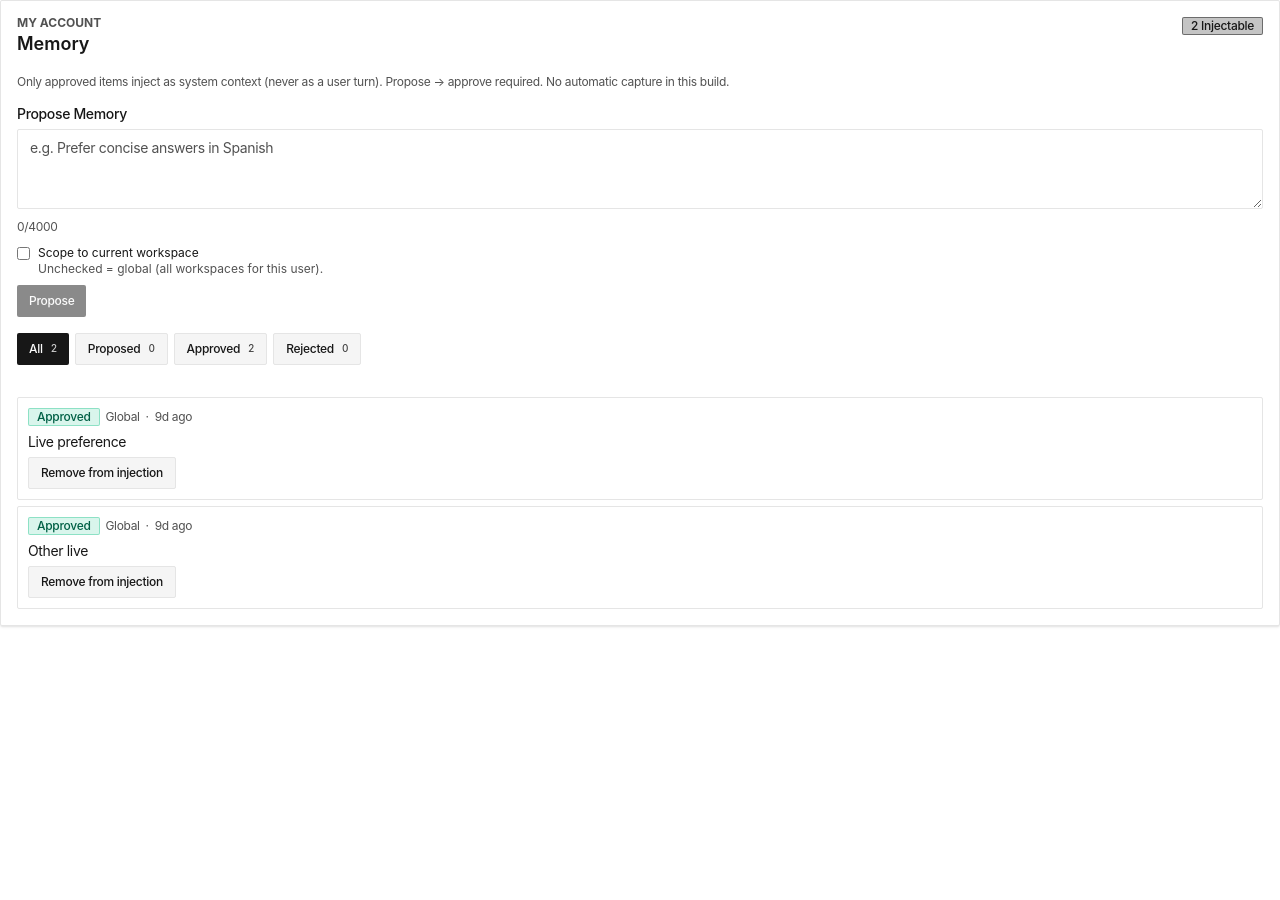
Scenario: UserMemoryPanel › Esc and Dismiss clear the soft-remove Undo banner
The image size is (1280, 900).
Expected: the text "Live preference" is shown, left=28, top=432, right=126, bottom=450
Click the button "Remove from injection" below "Live preference".
click(102, 473)  # box left=28, top=457, right=176, bottom=489
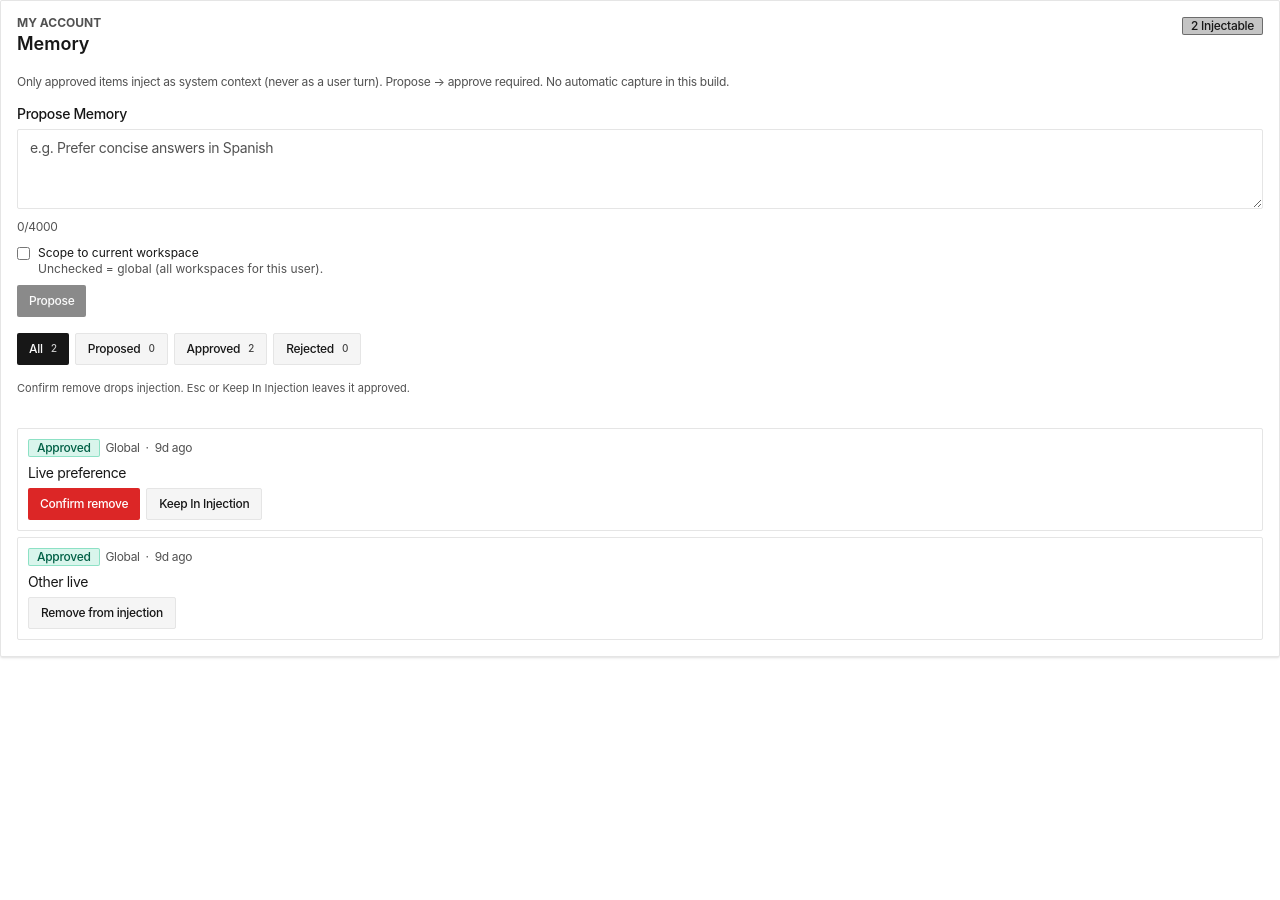
Click the button "Confirm remove".
click(84, 504)  # box left=28, top=488, right=140, bottom=520
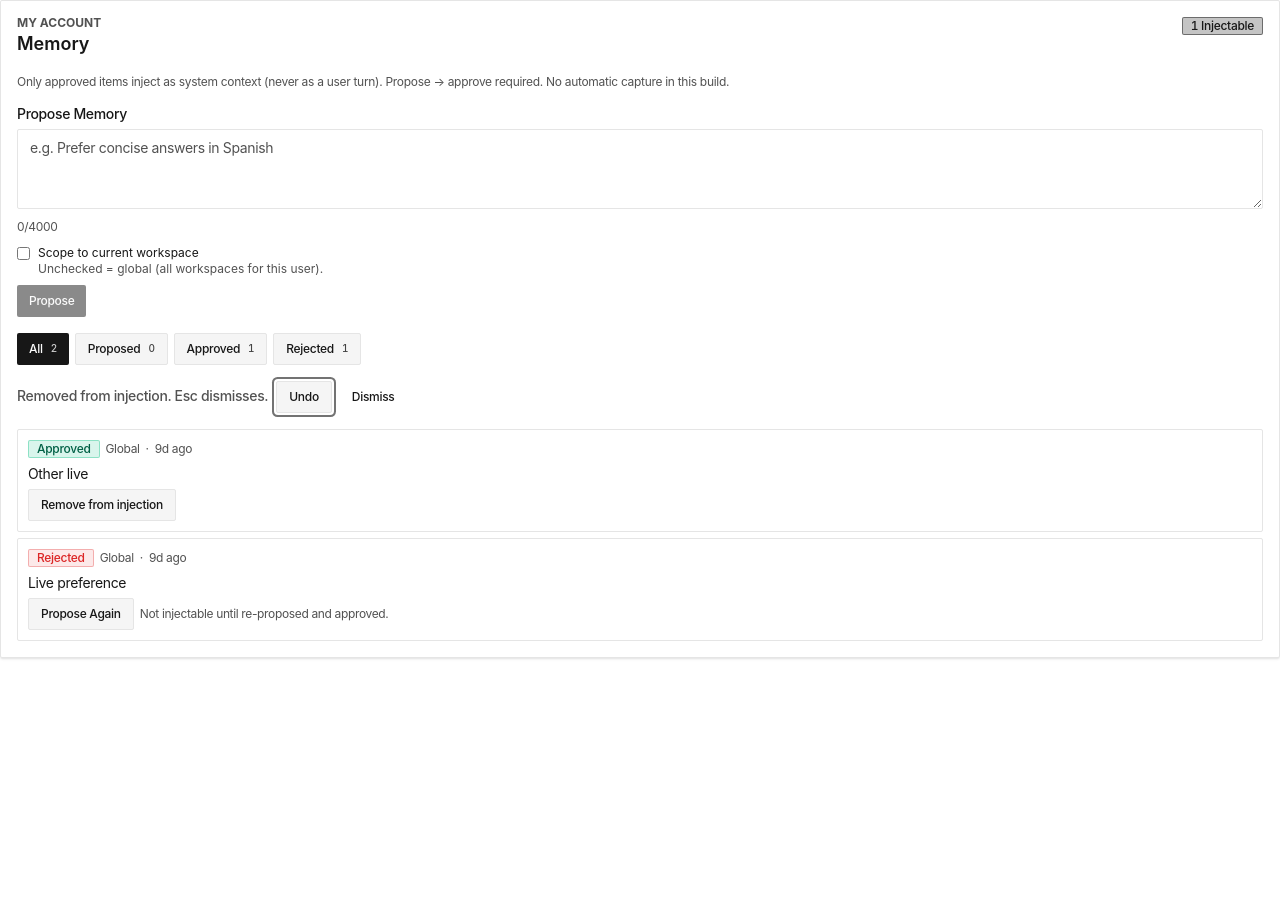
Now the text "Removed from injection. Esc dismisses." is shown, box left=17, top=385, right=268, bottom=408
Press Escape
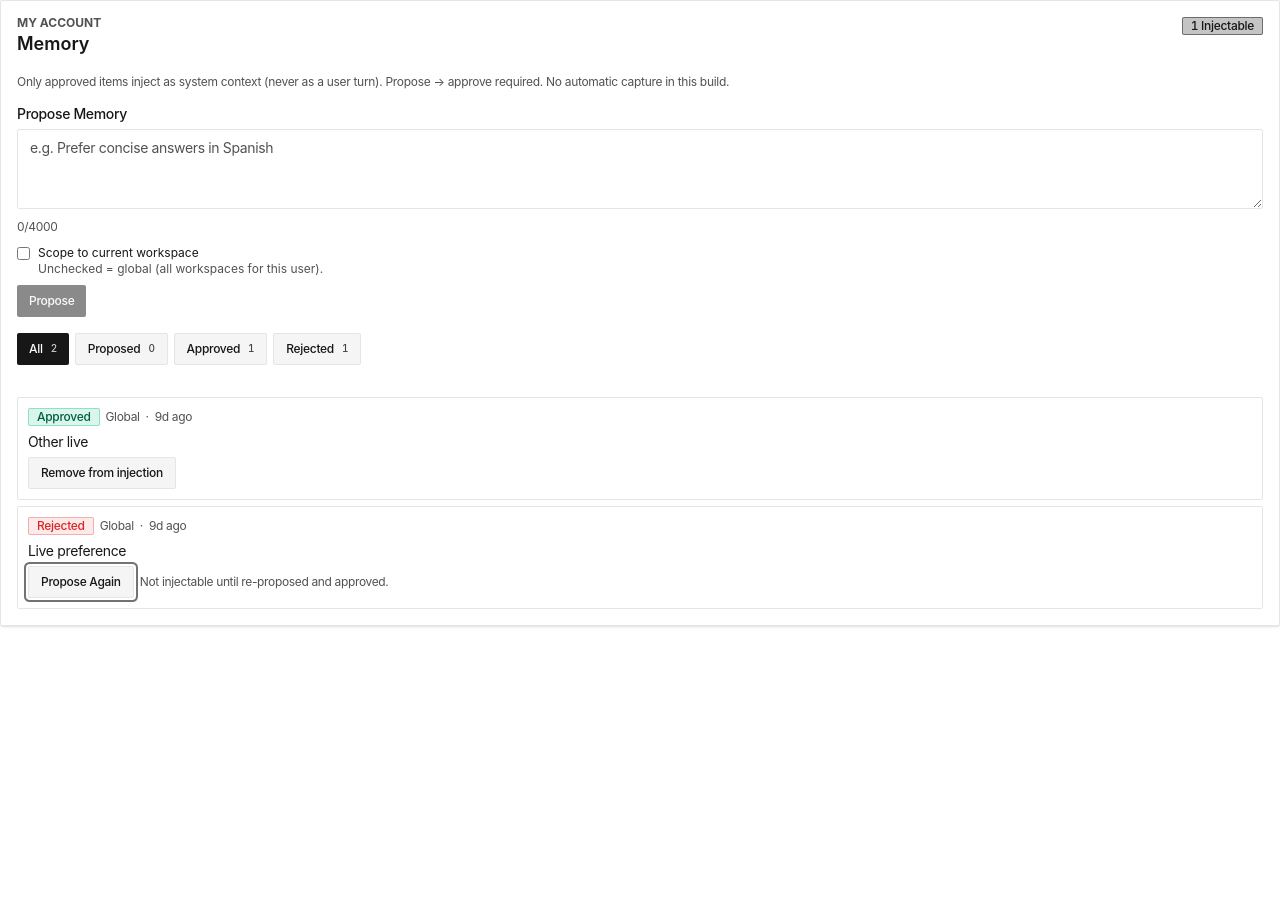
Now the text "Removed from injection" is gone
Click the button "Remove from injection".
click(102, 473)  # box left=28, top=457, right=176, bottom=489
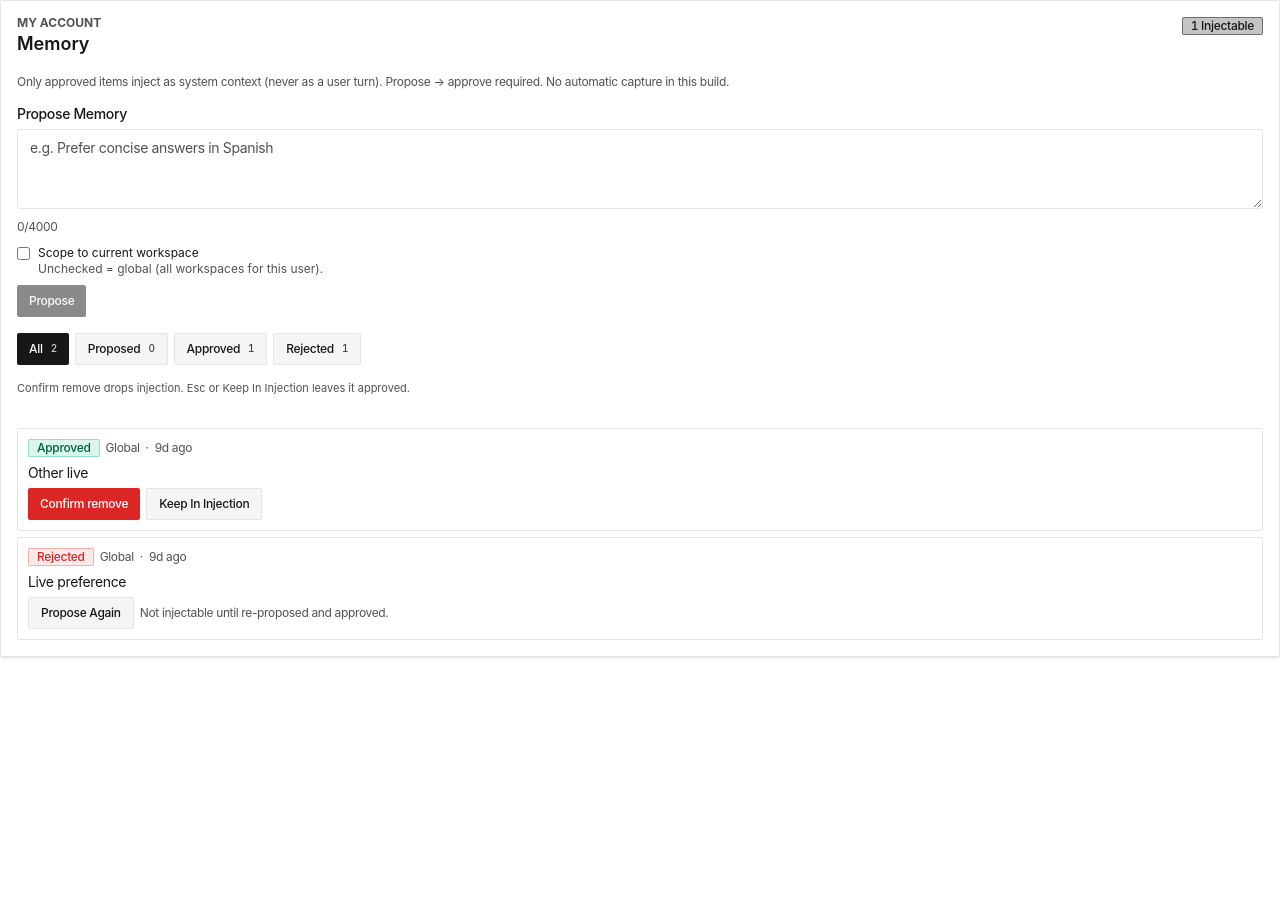
Click the button "Confirm remove".
click(84, 504)  # box left=28, top=488, right=140, bottom=520
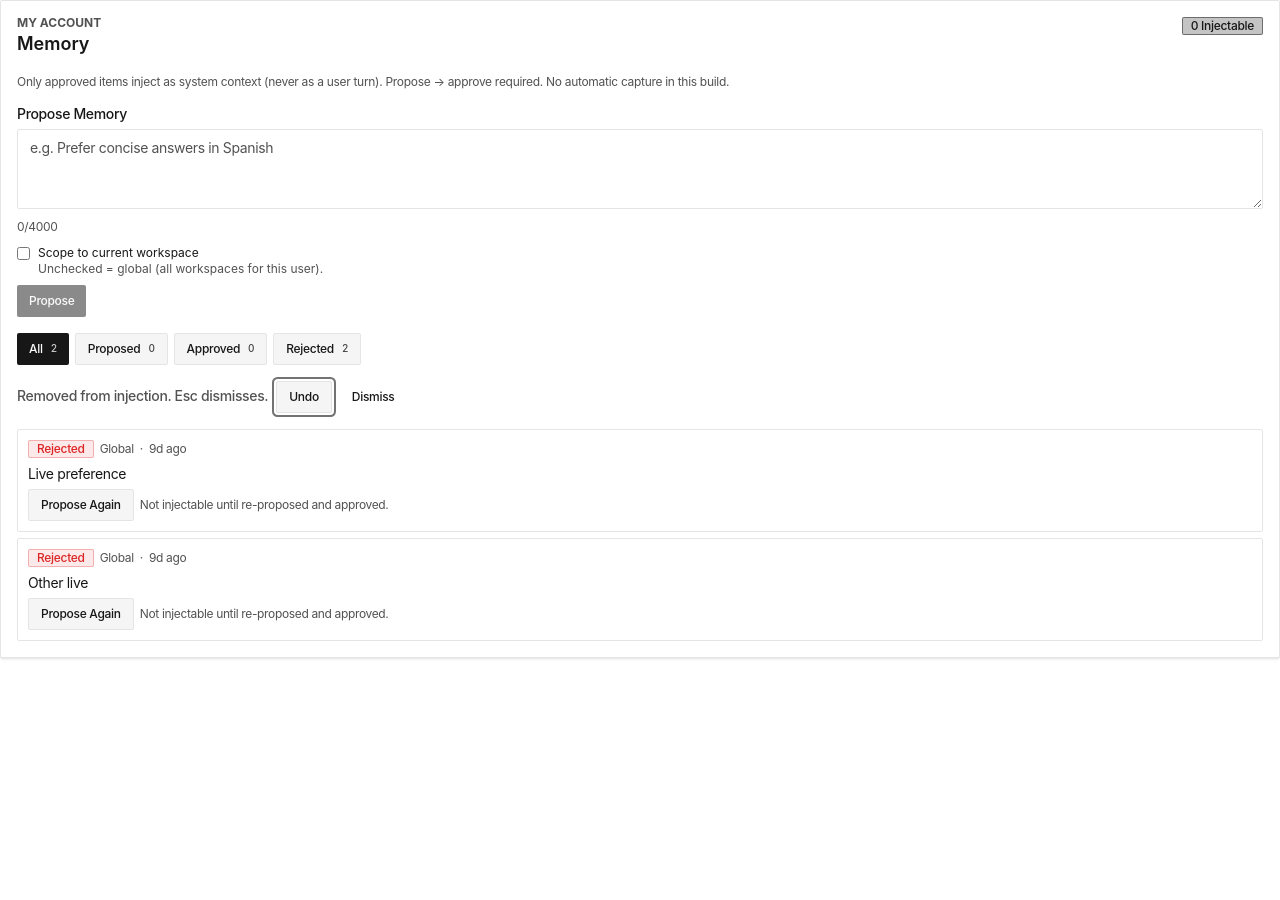
Now the text "Removed from injection. Esc dismisses." is shown, box left=17, top=385, right=268, bottom=408
Click the button with aria-label "Dismiss undo remove".
click(373, 396)  # box left=340, top=380, right=406, bottom=412
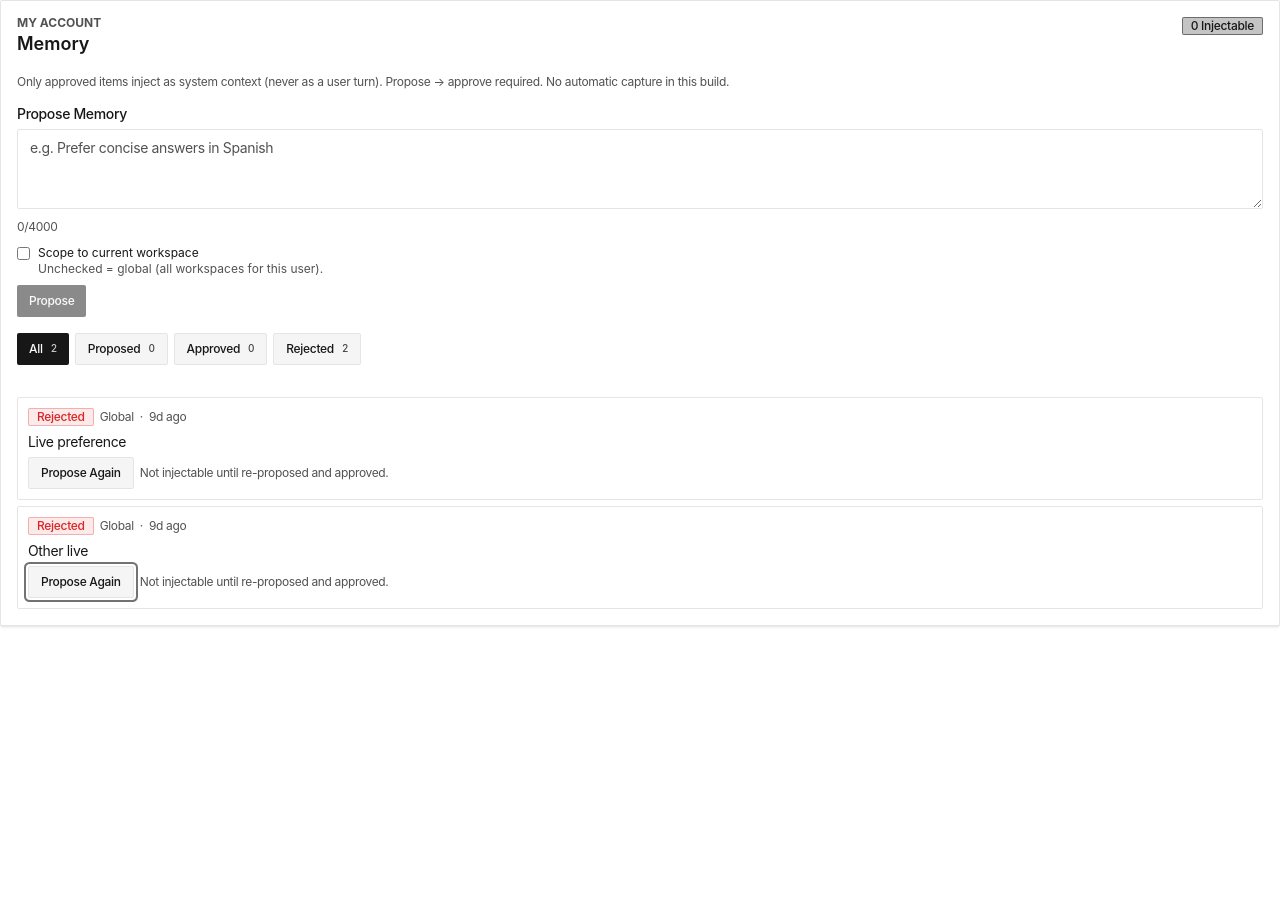
Now the text "Removed from injection" is gone
